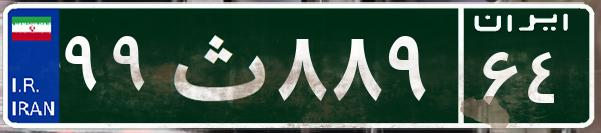4: (525, 38, 570, 115)
6: (475, 38, 525, 113)
8: (273, 28, 330, 110), (330, 28, 385, 110)
9: (385, 28, 445, 110), (57, 26, 110, 107), (110, 28, 158, 105)
ث: (158, 15, 273, 115)
